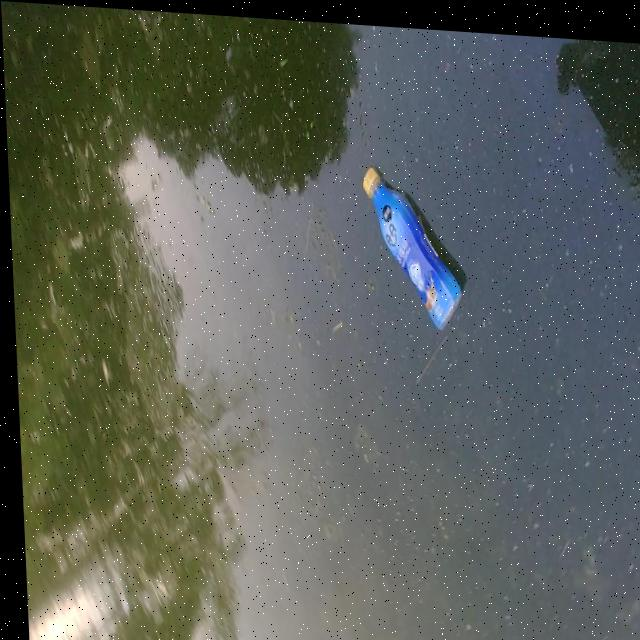bottle: (344, 143, 486, 370)
